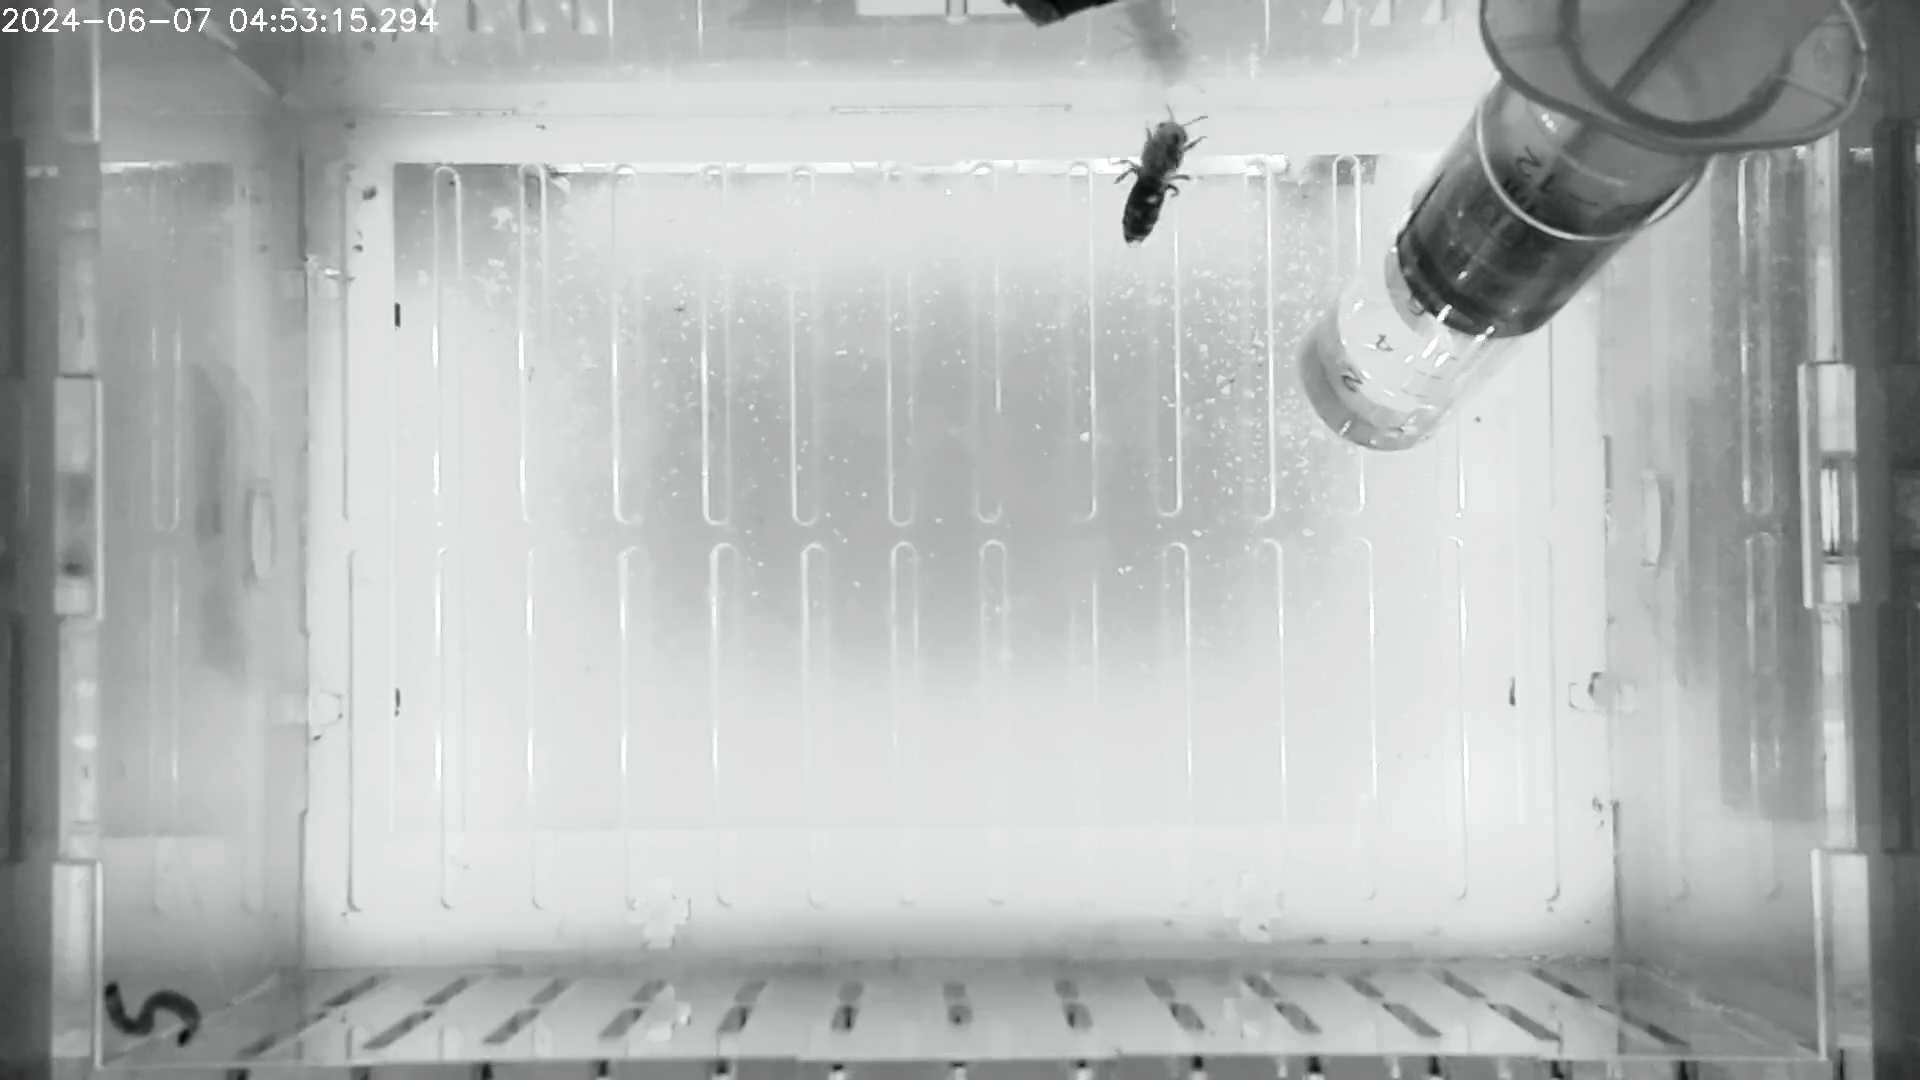bee: (1096, 98, 1215, 264)
feeder: (1288, 91, 1641, 464)
